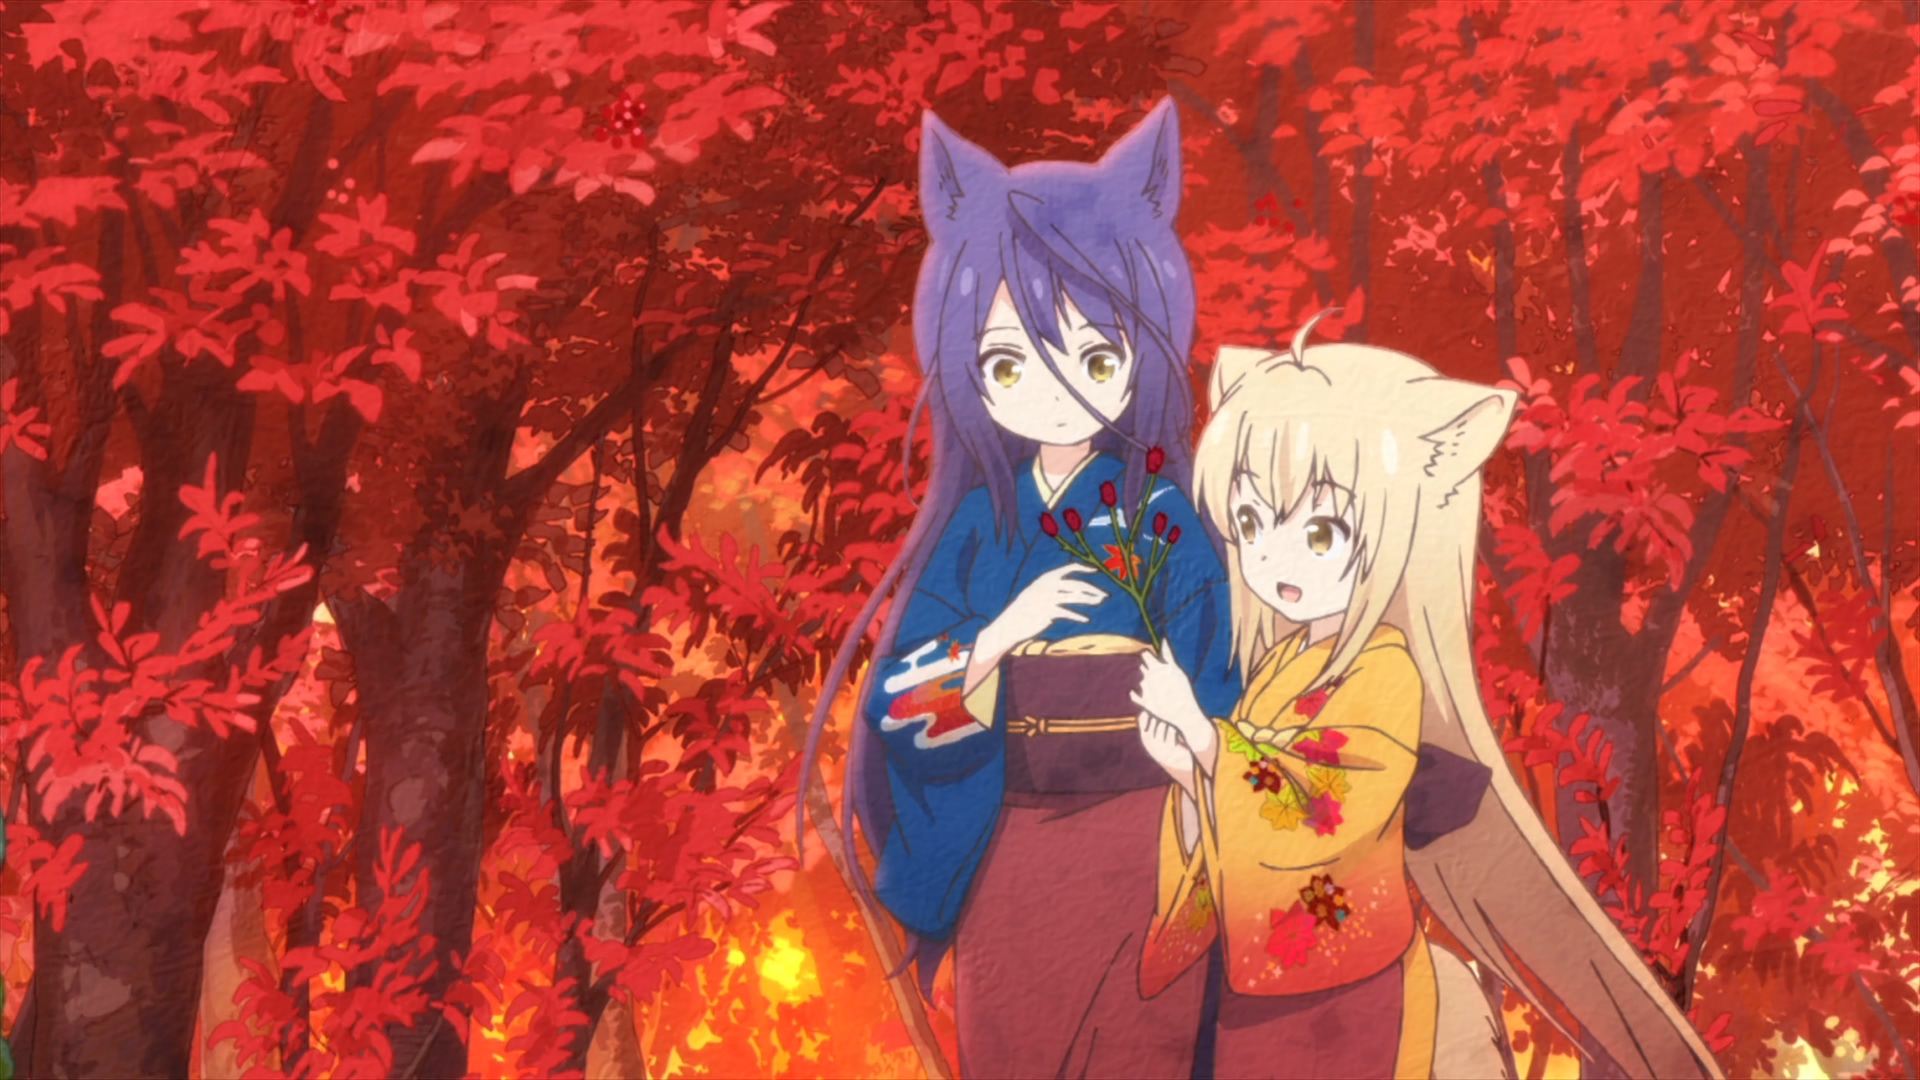柚: (1133, 309, 1717, 1080)
皋: (794, 95, 1242, 1080)
